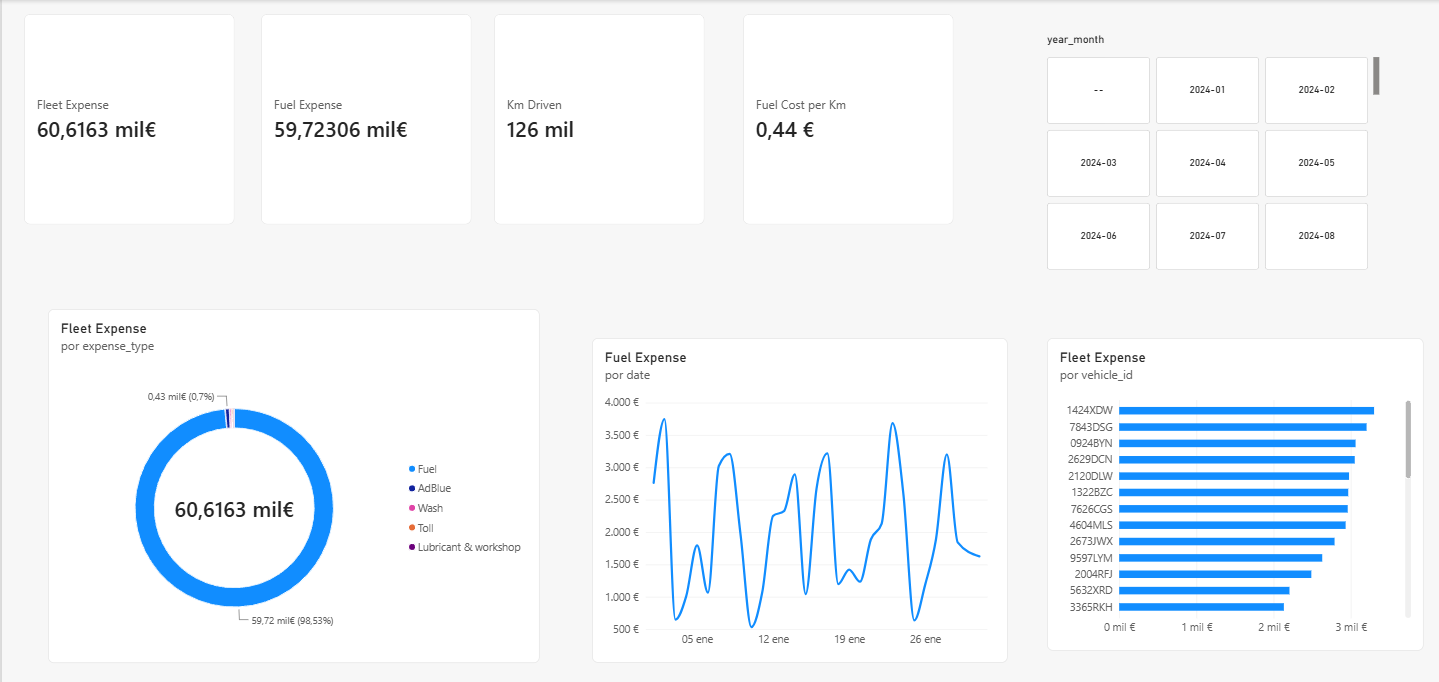

What the dashboard file says about the page in this screenshot:
{"tool":"powerbi","page":{"name":"Fleet costs","canvas":[1920,1080],"ordinal":1},"visuals":[{"type":"cardVisual","fields":{"Data":["_Measures.Fleet Expense"]},"box":[29.3,18.6,280,280],"z":0},{"type":"cardVisual","fields":{"Data":["_Measures.Fuel Expense"]},"box":[344.5,18.6,280,280],"z":1000},{"type":"cardVisual","fields":{"Data":["_Measures.Km Driven"]},"box":[654.4,18.6,280,280],"z":2000},{"type":"cardVisual","fields":{"Data":["_Measures.Fuel Cost per Km"]},"box":[985.6,18.6,280,280],"z":3000},{"type":"donutChart","fields":{"Category":["fact_fleet_expense.expense_type"],"Y":["_Measures.Fleet Expense"]},"box":[61.2,411,654.4,470.8],"z":4000},{"type":"barChart","fields":{"Category":["dim_vehicle.vehicle_id"],"Y":["_Measures.Fleet Expense"]},"box":[1389.9,449.6,501.4,416.3],"z":5000},{"type":"lineChart","fields":{"Category":["dim_calendar.date"],"Y":["_Measures.Fuel Expense"]},"box":[784.7,449.6,553.3,432.3],"z":6000},{"type":"advancedSlicerVisual","fields":{"Values":["dim_calendar.year_month"]},"box":[1389.9,43.9,442.9,317.9],"z":7000}]}

Visuals, with their boxes on the page's 1920x1080 design canvas (x1, y1, x2, y2). These are canvas units, not pixel positions in the 1439x682 screenshot, which may show the page scaled, cropped or inside an application window:
cardVisual - _Measures.Fleet Expense: bbox(29, 19, 309, 299)
cardVisual - _Measures.Fuel Expense: bbox(344, 19, 624, 299)
cardVisual - _Measures.Km Driven: bbox(654, 19, 934, 299)
cardVisual - _Measures.Fuel Cost per Km: bbox(986, 19, 1266, 299)
donutChart - fact_fleet_expense.expense_type x _Measures.Fleet Expense: bbox(61, 411, 716, 882)
barChart - dim_vehicle.vehicle_id x _Measures.Fleet Expense: bbox(1390, 450, 1891, 866)
lineChart - dim_calendar.date x _Measures.Fuel Expense: bbox(785, 450, 1338, 882)
advancedSlicerVisual - dim_calendar.year_month: bbox(1390, 44, 1833, 362)
